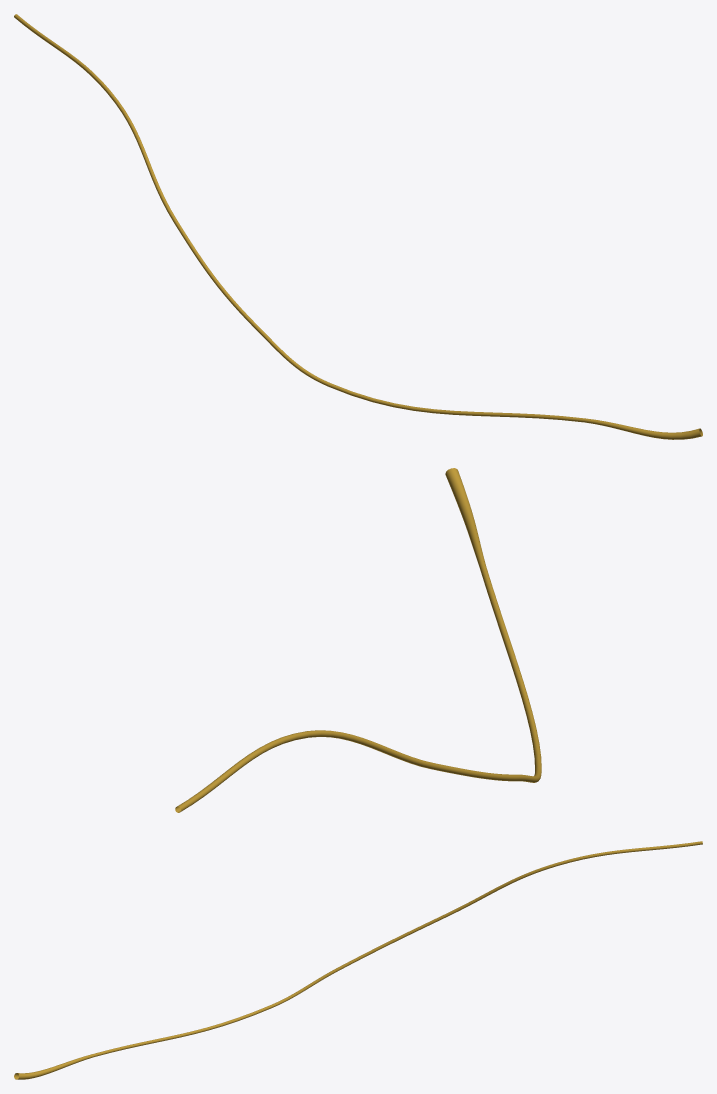
3 renders of one model, top to bottom at view 1: azimuth 30°, elevation 25°; view 2: azimuth 150°, elevation 25°; view 3: azimuth 270°, elevation 25°, orthographic. The views are drawn at different scales.
Parts seen in each view (by area): view 1: 右侧臂内侧皮神经; view 2: 右侧臂内侧皮神经; view 3: 右侧臂内侧皮神经.
Part boxes in pixels (x1,y1,x2,y2): 右侧臂内侧皮神经: [14, 14, 702, 439]; 右侧臂内侧皮神经: [175, 468, 541, 812]; 右侧臂内侧皮神经: [14, 841, 702, 1079].
Size of the model in its own units: 0.1053 by 0.074 by 0.2995.
